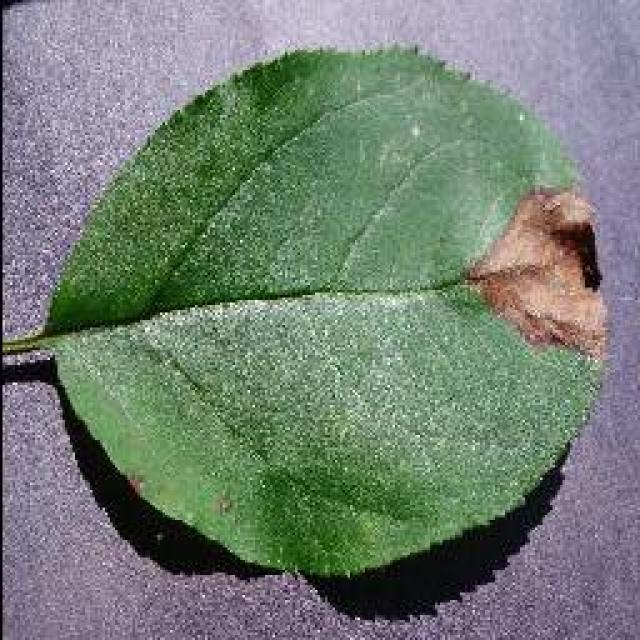black_rot: (458, 175, 619, 368)
